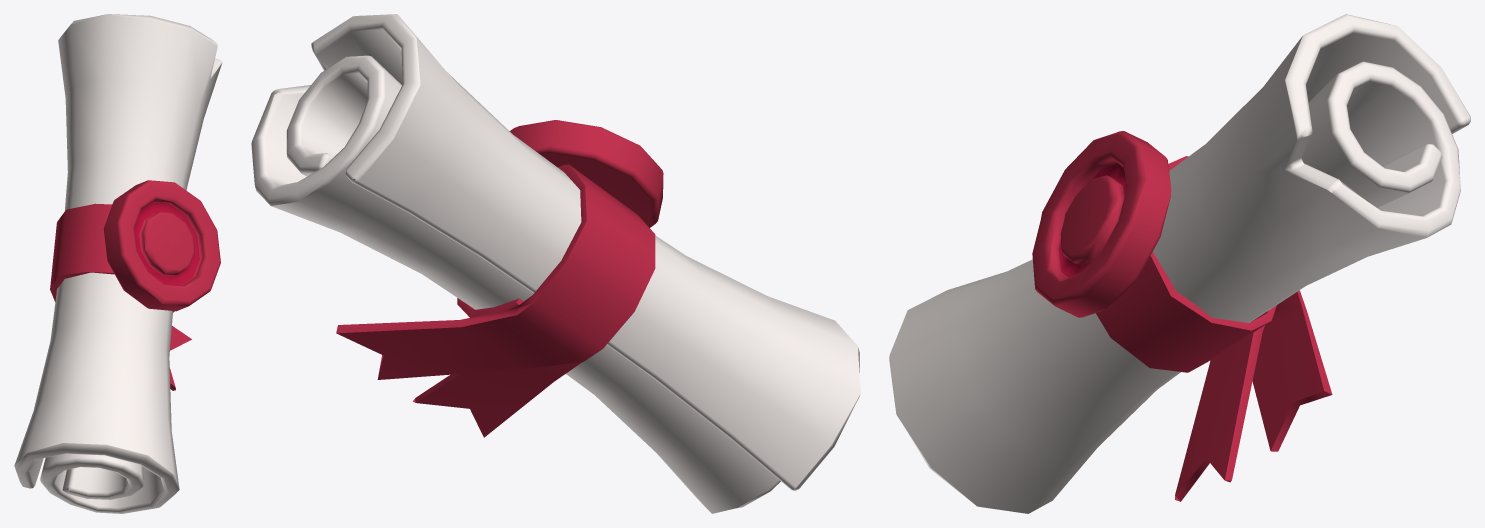
3 renders of one model, left to right at view 1: azimuth 30°, elevation 25°; view 2: azimuth 150°, elevation 25°; view 3: azimuth 270°, elevation 25°, orthographic. The views are drawn at different scales.
Parts seen in each view (by area): view 1: model_1.076; view 2: model_1.076; view 3: model_1.076.
Boxes of the visible parts, <box> form: model_1.076: <box>14,14,222,513</box>; model_1.076: <box>251,14,860,513</box>; model_1.076: <box>889,14,1470,513</box>.
Bounding box in the file's own units: 4.06 × 4.89 × 4.55.
